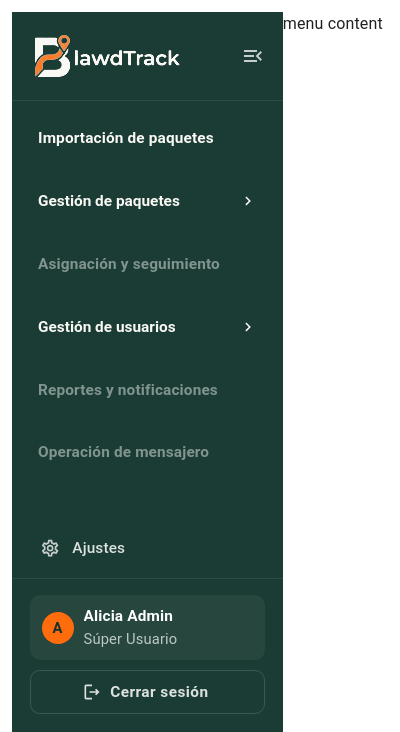
Test: MainMenuLayout sidebar › keeps the future modules in the collapsed sidebar, each with the coming-soon notice
Click the button named "Colapsar menú".
click(253, 56)  # box [231,34,275,78]
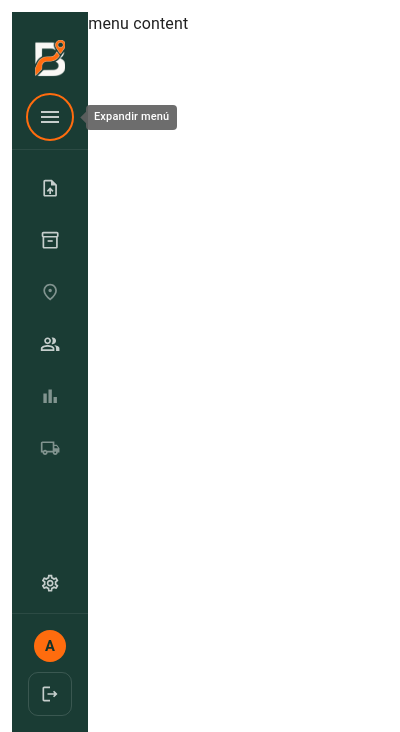
Hover over the button named "Asignación y seguimiento".
mouse_move(50, 292)  # box [40,282,60,302]
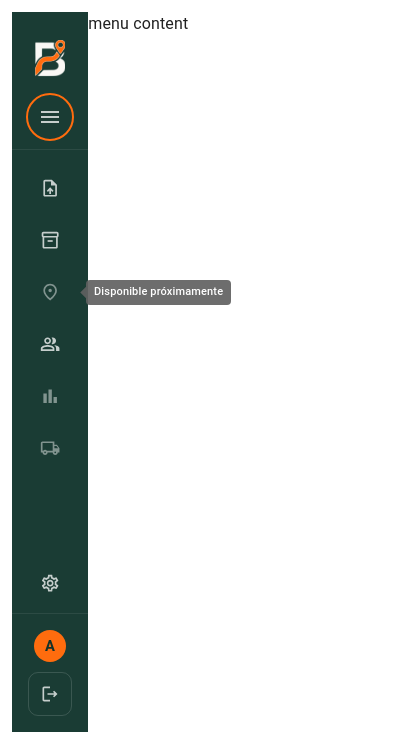
Check: the tooltip reads "Disponible próximamente", box [94,285,223,298]
